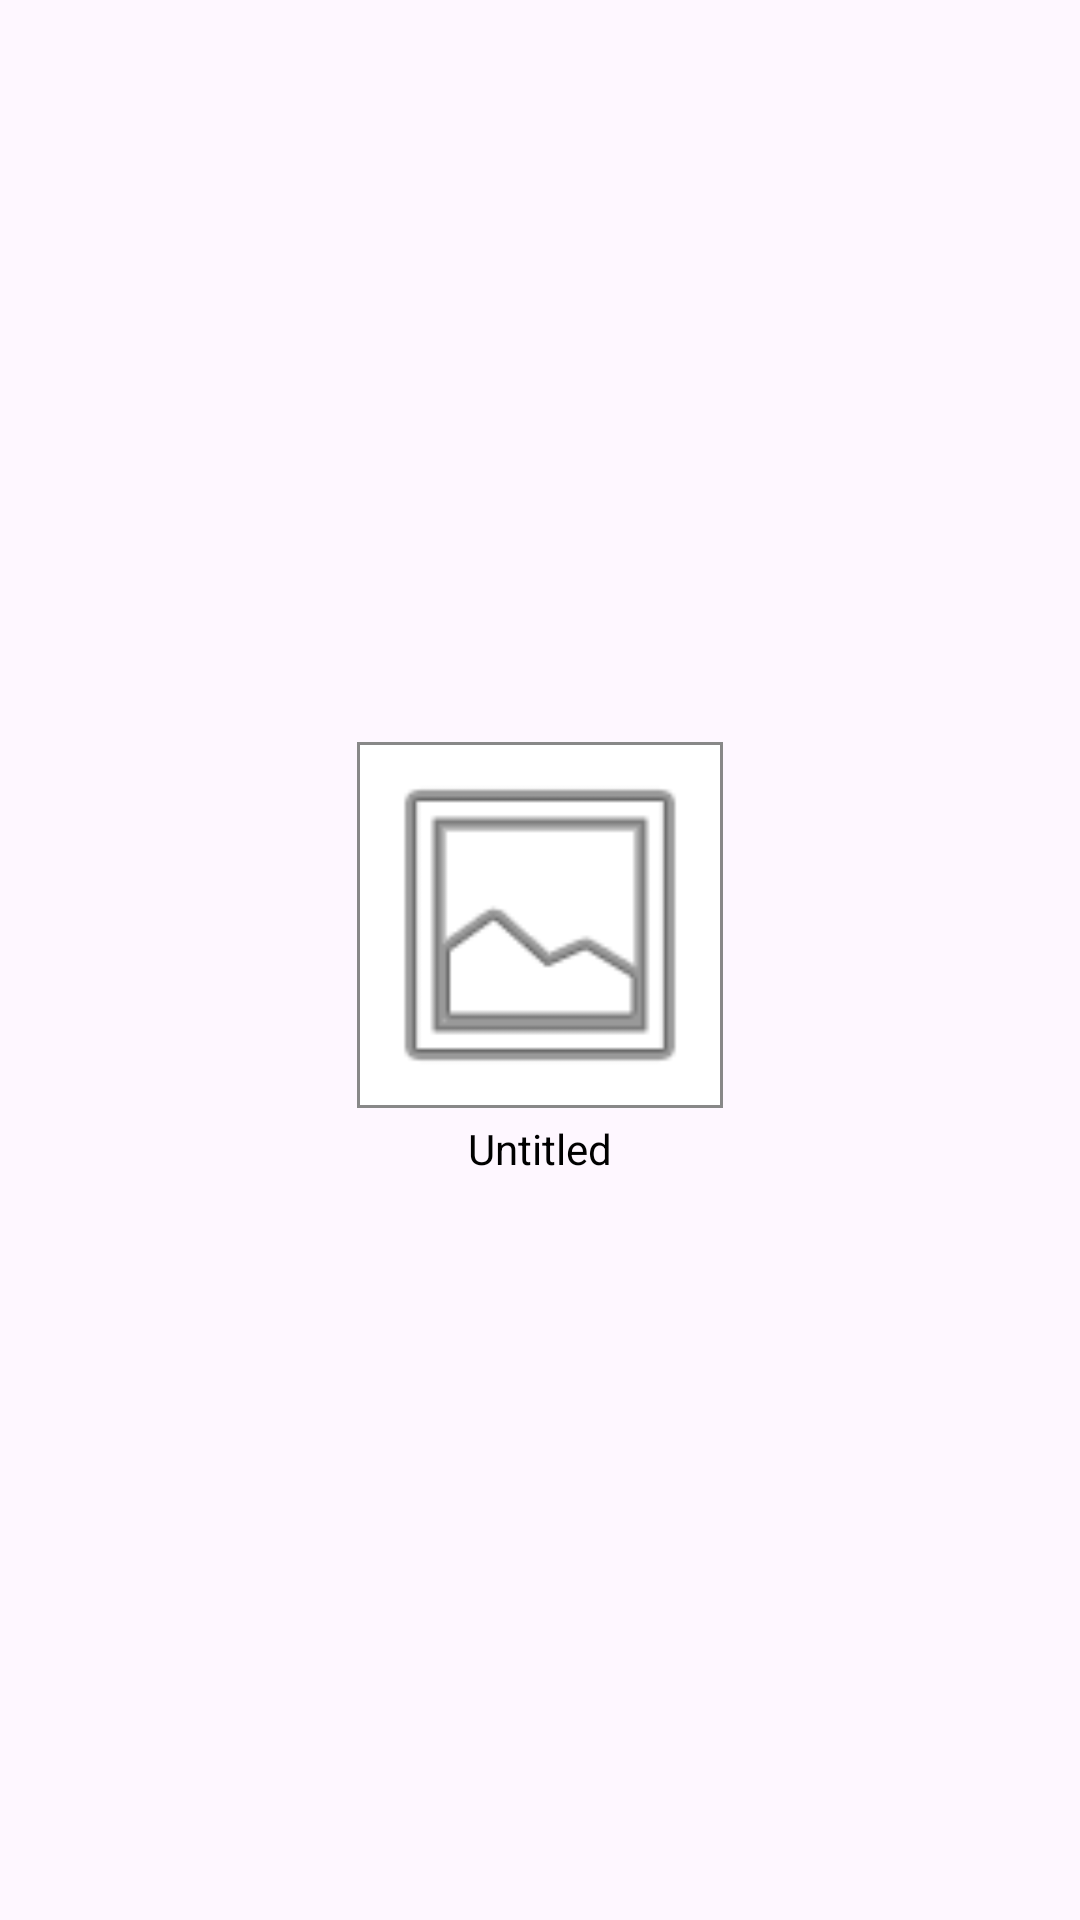

Named icons in this screenshot (1080*1920) and their bounding boxes, BBox(x1, y1, x2, y2):
gallery: BBox(404, 789, 676, 1061)
